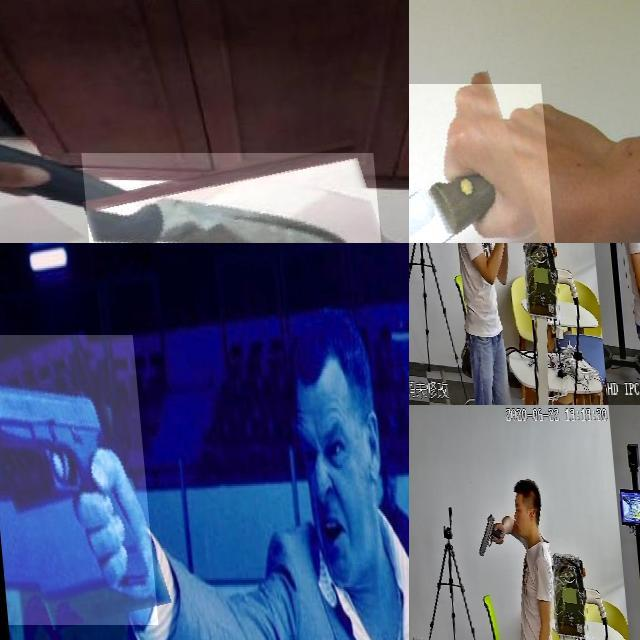-: (409, 84, 626, 243), (76, 153, 378, 243)
gun-knife-thesis - v11 Yolov5 augmented: (0, 335, 151, 625), (466, 509, 495, 558), (484, 243, 511, 268)
